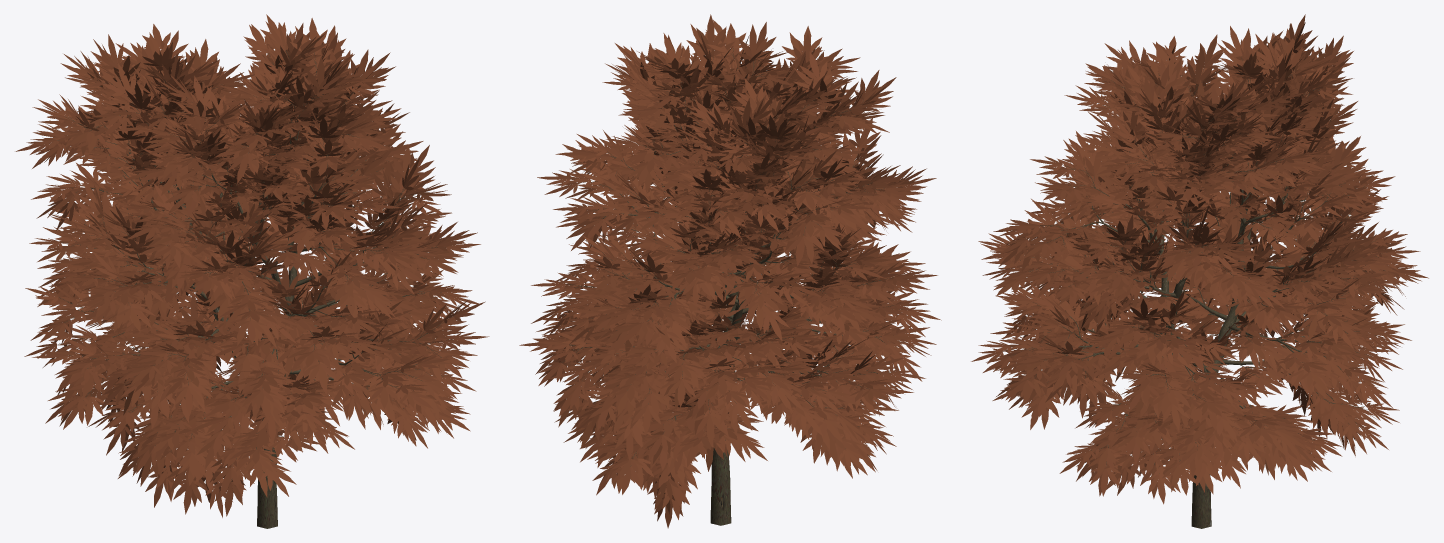
The model's file is maple1.fbx.
3 views of the same model, side by side, from view 1: azimuth 30°, elevation 25°; view 2: azimuth 150°, elevation 25°; view 3: azimuth 270°, elevation 25° (orthographic). The views are drawn at different scales.
Visible parts, largest first — view 1: leaves, tree; view 2: leaves, tree; view 3: leaves, tree.
Part boxes in pixels (x1,y1,x2,y2): leaves: [15, 14, 489, 517]; tree: [57, 49, 453, 528]; leaves: [519, 14, 941, 528]; tree: [562, 48, 903, 525]; leaves: [971, 14, 1428, 504]; tree: [1002, 58, 1386, 528].
Bounding box in the file's own units: 585 × 694 × 628.
2 materials, 1 textured.
